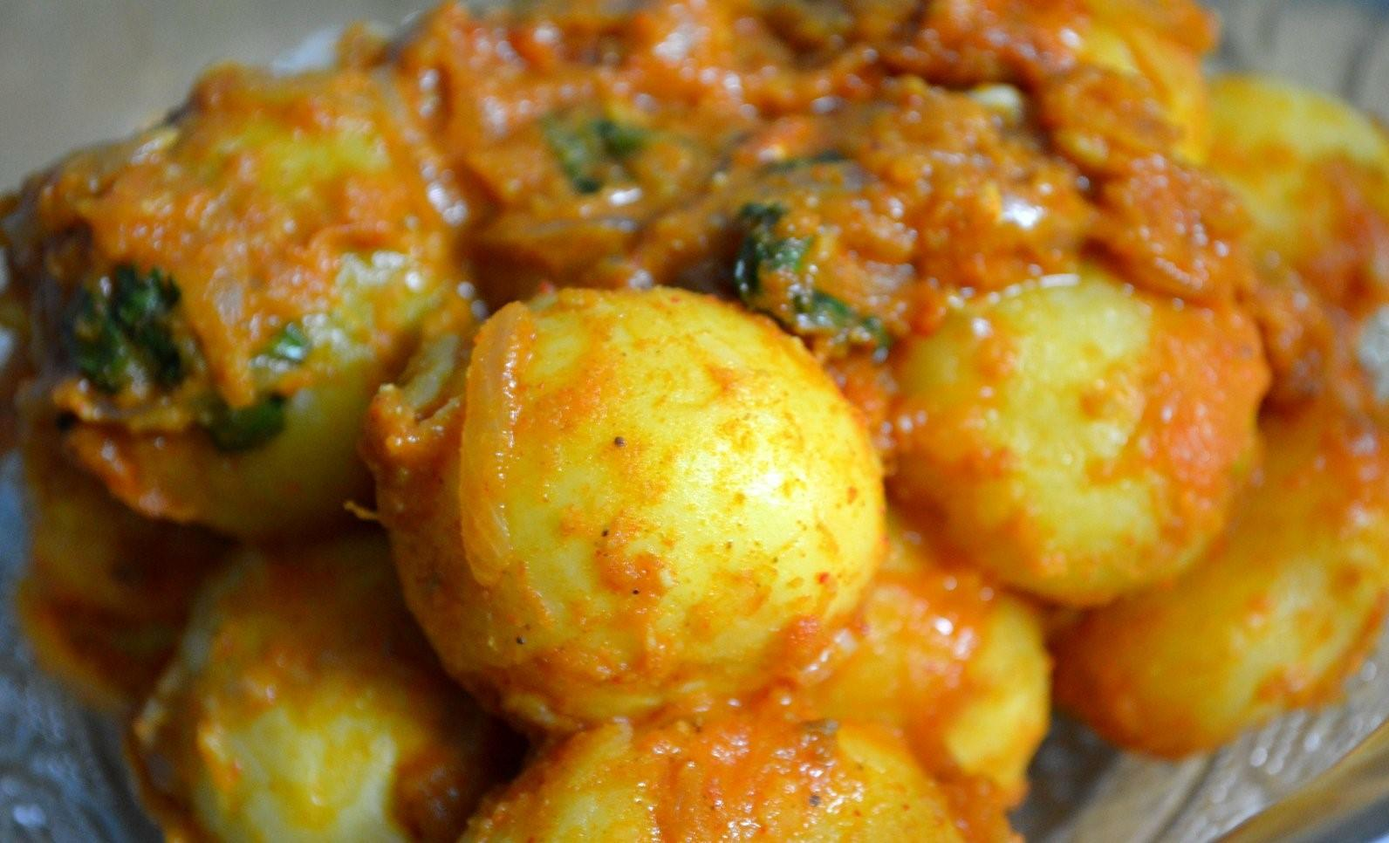DumAloo: (4, 0, 1389, 843)
